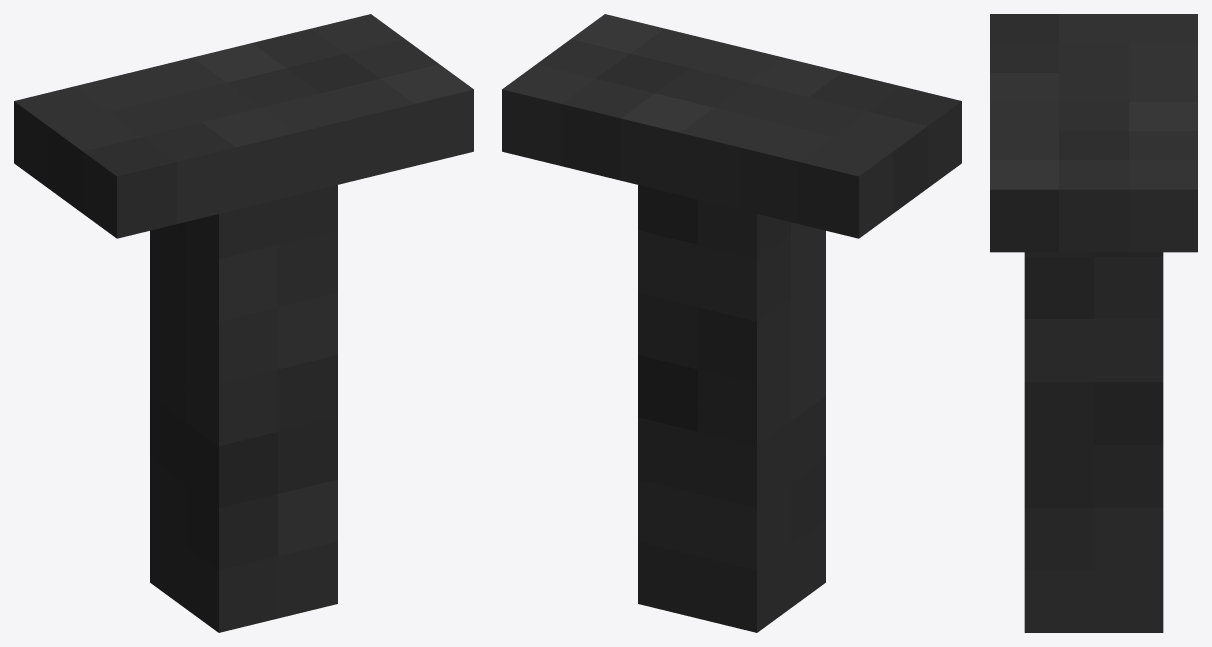
File: tactical_grip.obj
3 views of the same model, side by side, from view 1: azimuth 30°, elevation 25°; view 2: azimuth 150°, elevation 25°; view 3: azimuth 270°, elevation 25° (orthographic).
Parts seen in each view (by area): view 1: Shape2, Shape1; view 2: Shape2, Shape1; view 3: Shape2, Shape1.
Part boxes in pixels (x1=…): Shape2: x1=150, y1=185, x2=337, y2=632; Shape1: x1=14, y1=14, x2=473, y2=238; Shape2: x1=638, y1=185, x2=825, y2=632; Shape1: x1=502, y1=14, x2=961, y2=238; Shape2: x1=1024, y1=252, x2=1163, y2=632; Shape1: x1=990, y1=14, x2=1197, y2=252.
Bounding box in the file's own units: 0.375 × 0.5 × 0.1875.
